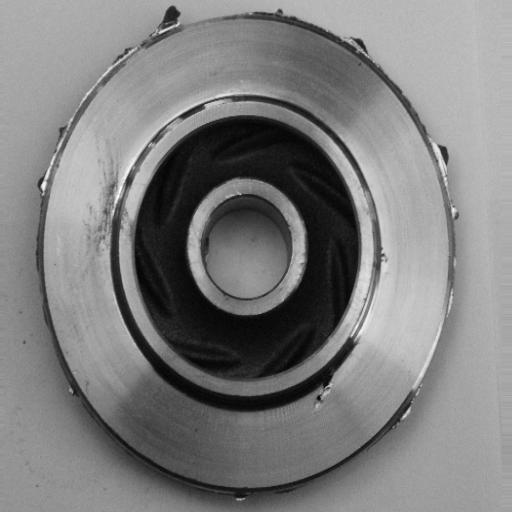casting_with_burr: (32, 0, 464, 502)
crack: (364, 218, 398, 291), (312, 349, 346, 415)
stain: (79, 139, 139, 264)
